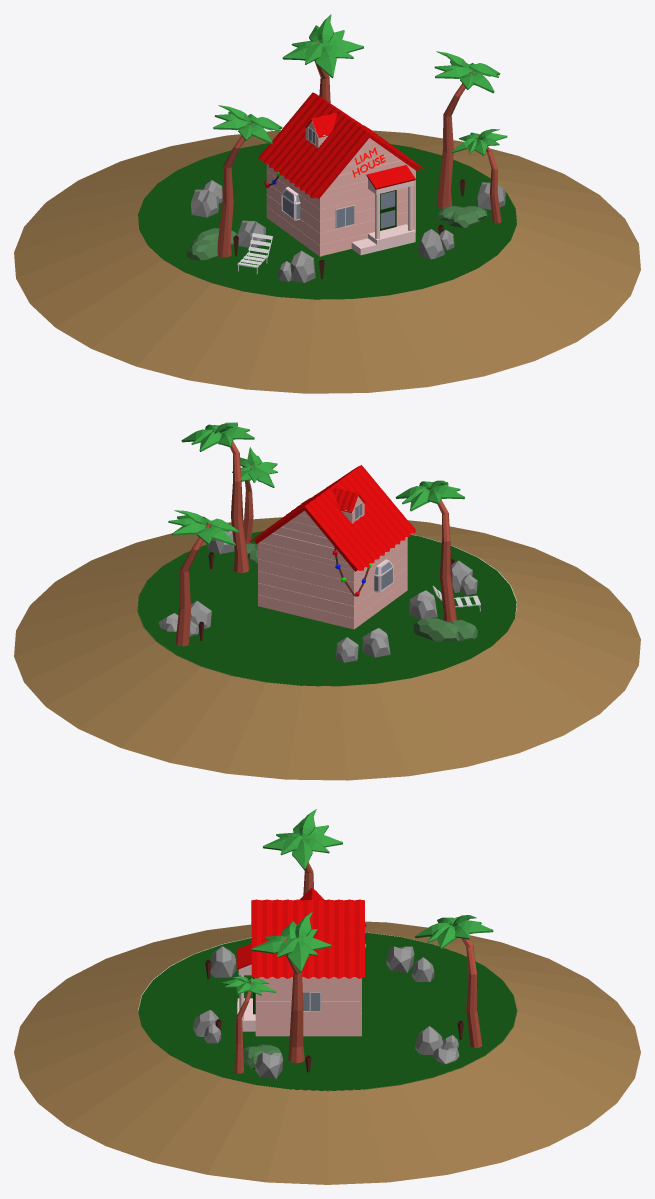
The model's file is kame.glb.
The picture shows the model from 3 angles, top to bottom: view 1: azimuth 30°, elevation 25°; view 2: azimuth 150°, elevation 25°; view 3: azimuth 270°, elevation 25°; orthographic projection.
Parts seen in each view (by area): view 1: Cylinder.007, Cylinder.014, Plane.037, Cube, Cube.045, Cylinder.001, Cylinder, Cube.005, Cube.009, Icosphere.008, Icosphere, Cube.010 (+3 smaller); view 2: Cylinder.007, Cylinder.014, Cube.023, Plane.037, Cube.045, Cylinder.001, Cylinder, Cylinder.003, Icosphere.011, Icosphere.008, Icosphere.010, Cube.002 (+2 smaller); view 3: Cylinder.007, Cylinder.014, Plane.136, Cube.040, Cylinder.001, Cylinder.003, Icosphere, Icosphere.008, Cylinder.002, Icosphere.001, Icosphere.007.
Boxes of the visible parts, box(x1,y1,x2,y2) form: Cylinder.007: box(14, 130, 640, 393); Cylinder.014: box(138, 143, 516, 299); Plane.037: box(258, 92, 369, 198); Cube: box(322, 138, 415, 255); Cube.045: box(267, 164, 322, 256); Cylinder.001: box(436, 72, 473, 208); Cylinder: box(217, 123, 251, 257); Cube.005: box(368, 224, 415, 251); Cube.009: box(366, 165, 415, 189); Icosphere.008: box(191, 189, 218, 217); Icosphere: box(290, 250, 315, 282); Cube.010: box(237, 233, 272, 274); Cylinder.007: box(14, 517, 640, 780); Cylinder.014: box(137, 531, 516, 686); Cube.023: box(258, 510, 355, 629); Plane.037: box(305, 465, 415, 570); Cube.045: box(355, 537, 407, 628); Cylinder.001: box(230, 441, 249, 572); Cylinder: box(437, 499, 456, 622); Cylinder.003: box(175, 523, 211, 646); Icosphere.011: box(413, 618, 459, 641); Icosphere.008: box(362, 628, 390, 657); Icosphere.010: box(409, 590, 437, 618); Cube.002: box(254, 507, 357, 571); Cylinder.007: box(14, 921, 640, 1184); Cylinder.014: box(138, 932, 517, 1091); Plane.136: box(251, 900, 364, 978); Cube.040: box(255, 977, 360, 1036); Cylinder.001: box(283, 938, 304, 1063); Cylinder.003: box(461, 938, 482, 1047); Icosphere: box(210, 946, 236, 977); Icosphere.008: box(386, 946, 414, 972); Cylinder.002: box(234, 982, 253, 1073); Icosphere.001: box(255, 1052, 283, 1079); Icosphere.007: box(415, 1026, 443, 1054).
Size of the model in its own units: 13.34 by 4.47 by 13.34.
